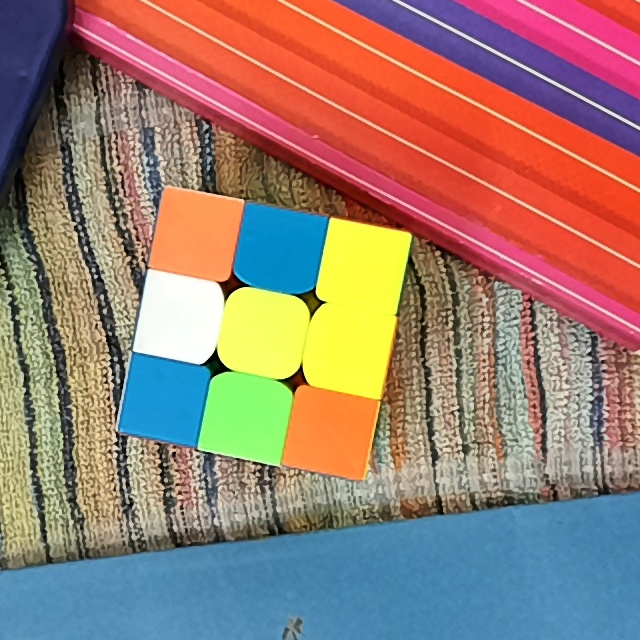tile: (161, 201, 230, 269), (212, 386, 281, 452), (129, 368, 197, 433), (329, 232, 393, 300), (247, 219, 314, 283), (297, 398, 361, 465), (317, 318, 381, 383), (232, 300, 294, 366), (150, 286, 210, 350)
